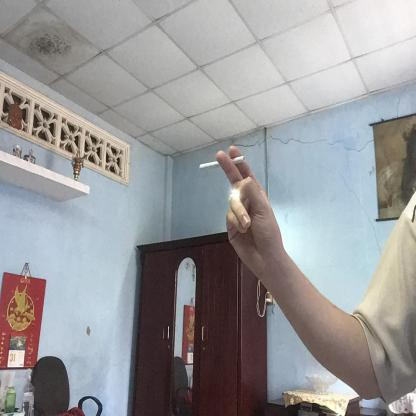cigarette: (196, 160, 220, 174)
